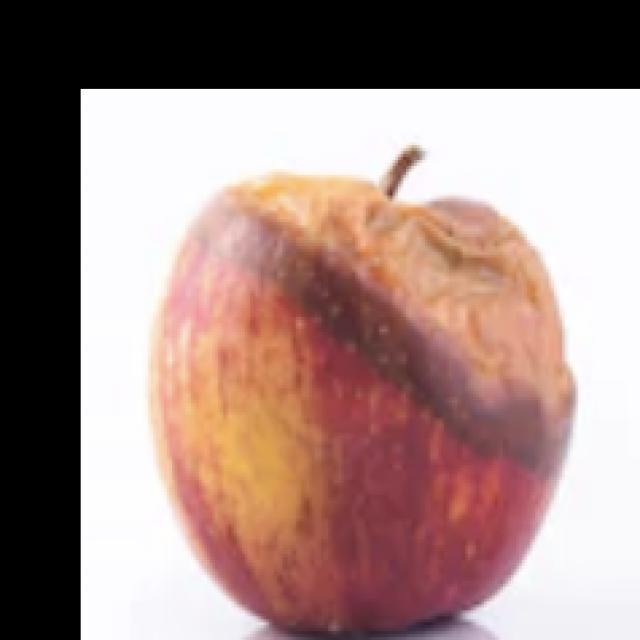Rotten: (139, 183, 561, 640)
